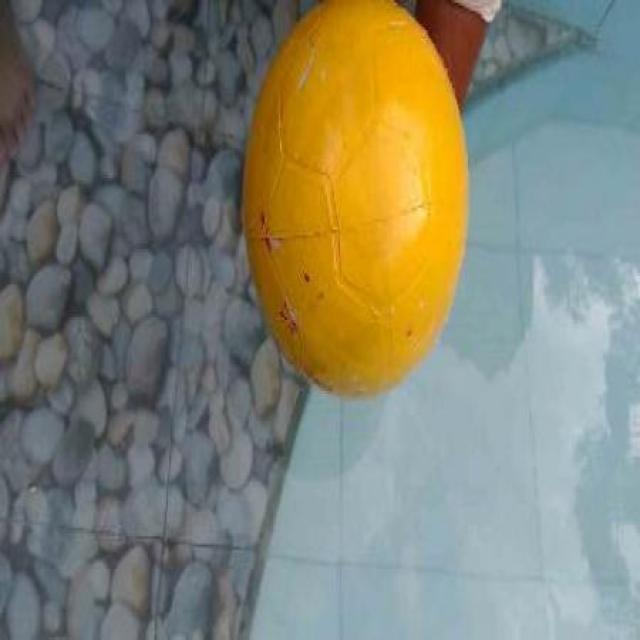buoy: (242, 0, 468, 400)
